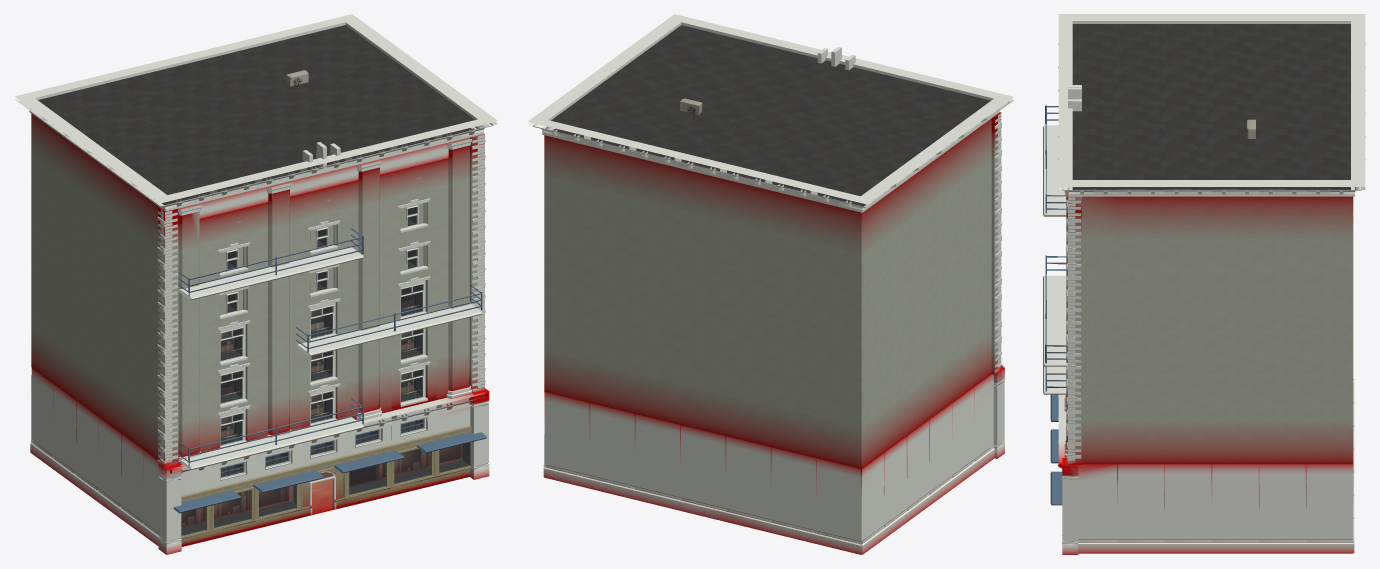
The model's file is coastal-apartments-low.glb.
3 renders of one model, left to right at view 1: azimuth 30°, elevation 25°; view 2: azimuth 150°, elevation 25°; view 3: azimuth 270°, elevation 25°, orthographic. The views are drawn at different scales.
Visible parts, largest first — view 1: Coastal hotel LOW; view 2: Coastal hotel LOW; view 3: Coastal hotel LOW.
Part boxes in pixels (bbox=[...]): Coastal hotel LOW: bbox=[15, 14, 497, 554]; Coastal hotel LOW: bbox=[528, 14, 1013, 554]; Coastal hotel LOW: bbox=[1043, 14, 1365, 554].
Bounding box in the file's own units: 16 × 16.52 × 12.57.
14 materials, 10 textured.
